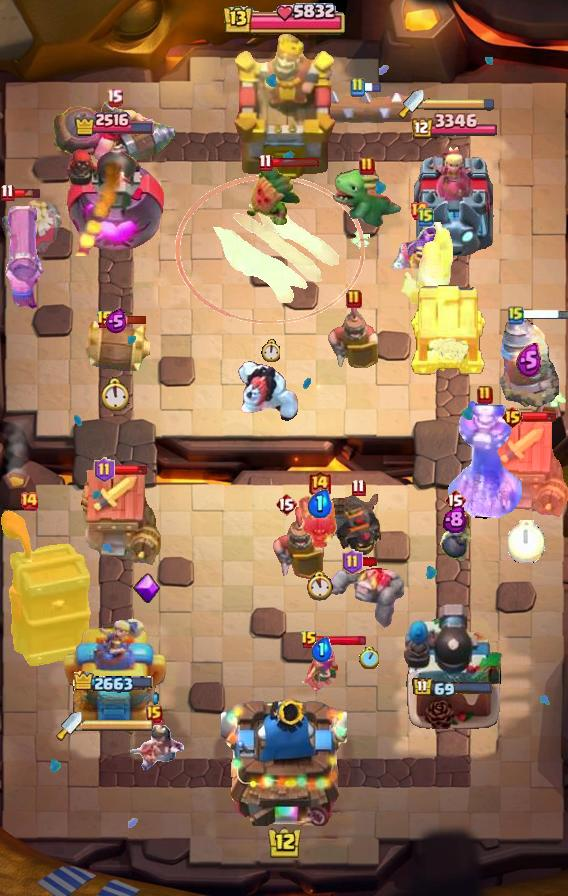archer-evolution: (309, 491, 407, 561)
bar: (61, 615, 166, 731), (409, 142, 497, 256)
battle-healer: (0, 206, 46, 310)
bomb: (408, 282, 488, 376)
cannon: (298, 645, 344, 695)
clock: (221, 0, 347, 40)
dart-goblin: (0, 509, 94, 669)
earthquake: (271, 507, 327, 583), (327, 302, 381, 370)
electro-dragon: (446, 397, 524, 525)
electro-spirit: (516, 343, 542, 377), (307, 490, 332, 518), (443, 505, 467, 533), (105, 309, 127, 335), (311, 637, 332, 662)
electro-wizard: (332, 167, 403, 229)
elixir: (507, 521, 544, 564), (101, 377, 130, 411), (305, 571, 334, 601), (260, 338, 280, 362), (359, 647, 379, 669)
emote: (317, 634, 368, 647), (522, 307, 568, 320), (270, 157, 320, 168), (521, 411, 557, 423), (112, 464, 148, 476), (7, 187, 42, 199), (112, 315, 147, 325), (363, 81, 382, 93), (360, 556, 379, 568)
firecracker: (398, 221, 454, 318)
firecracker-evolution: (388, 225, 450, 272)
goblin-barrel: (244, 160, 302, 230)
golden-knight: (298, 492, 340, 552)
ice-golem: (437, 508, 473, 564)
ice-wizard: (175, 175, 365, 325)
king-tower: (221, 690, 347, 826), (231, 35, 337, 182)
king-tower-bar: (424, 97, 496, 111), (82, 719, 154, 733)
magic-archer: (499, 316, 559, 408)
minion: (315, 87, 415, 129)
mortar-evolution: (0, 195, 62, 255)
rage: (235, 360, 301, 424)
selected: (409, 113, 497, 141), (73, 111, 155, 138), (73, 671, 155, 695), (412, 677, 494, 699)
skeleton-dragon: (123, 725, 185, 777)
skeleton-king-skill: (133, 573, 161, 605)
sparky: (482, 421, 568, 519), (75, 469, 161, 567)
text: (307, 469, 332, 500), (500, 405, 523, 429), (94, 457, 115, 483), (341, 549, 362, 575), (444, 488, 466, 512), (275, 492, 297, 516), (409, 201, 429, 221), (19, 491, 39, 511), (96, 310, 114, 330), (300, 630, 318, 650), (349, 77, 365, 97), (359, 156, 375, 176), (418, 207, 434, 227), (346, 289, 362, 309), (508, 305, 524, 325), (477, 385, 493, 405), (105, 89, 122, 107), (146, 705, 162, 723), (1, 183, 16, 202), (351, 479, 366, 497), (259, 153, 273, 172)
the-log: (79, 320, 153, 372)
tower-bar: (403, 601, 503, 731), (63, 138, 164, 256)
valkyrie-evolution: (330, 564, 408, 628)
wizard: (51, 97, 177, 171)
